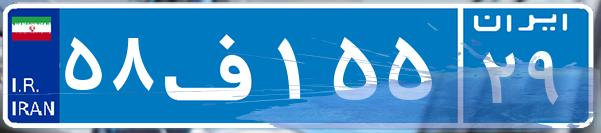1: (273, 28, 330, 110)
2: (475, 38, 525, 113)
5: (385, 28, 445, 110), (330, 28, 385, 110), (57, 26, 110, 107)
8: (110, 28, 158, 105)
9: (525, 38, 570, 115)
ف: (158, 15, 273, 115)
